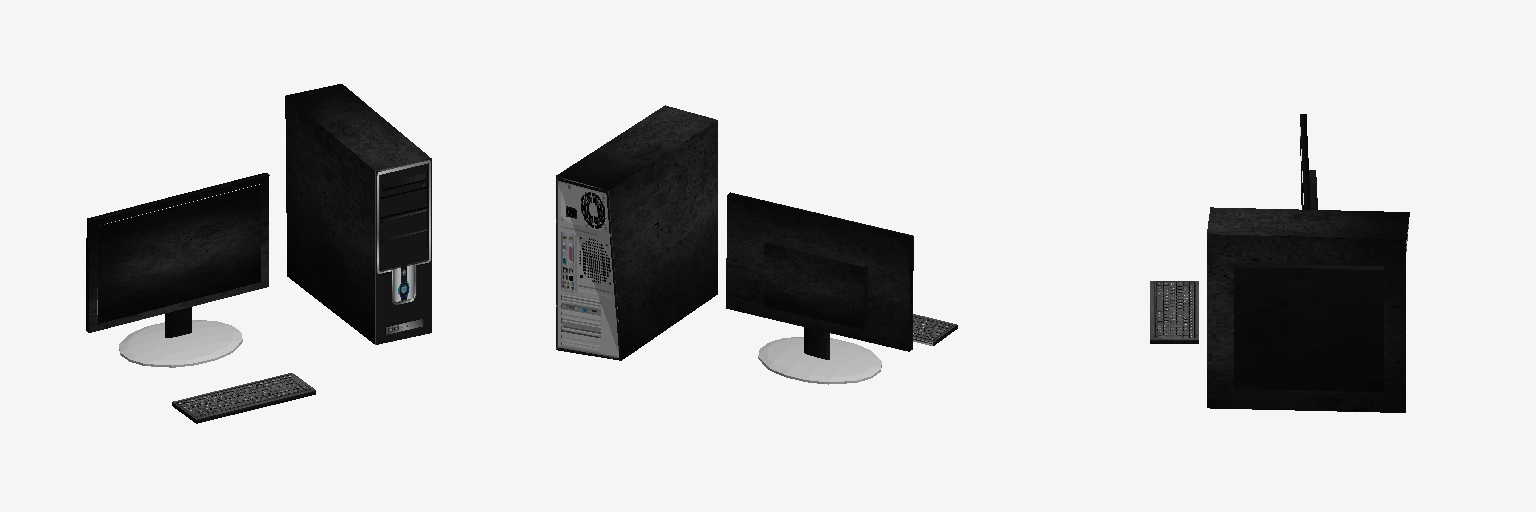
3 views of the same model, side by side, from view 1: azimuth 30°, elevation 25°; view 2: azimuth 150°, elevation 25°; view 3: azimuth 270°, elevation 25° (orthographic).
Parts seen in each view (by area): view 1: Cube.004, Cube.002, Cube, Mball, Cube.003, Cylinder; view 2: Cube.004, Cube, Cube.001, Mball, Cube.003, Cylinder; view 3: Cube.004, Cube.005, Cube.003, Cube.
Boxes of the visible parts, x1,y1,x2,y2 form: Cube.004: [285, 84, 431, 344]; Cube.002: [97, 184, 261, 323]; Cube: [86, 173, 269, 332]; Mball: [119, 320, 242, 367]; Cube.003: [172, 373, 315, 423]; Cylinder: [165, 307, 191, 337]; Cube.004: [556, 105, 717, 360]; Cube: [726, 192, 913, 351]; Cube.001: [764, 241, 867, 329]; Mball: [758, 337, 881, 384]; Cube.003: [913, 314, 957, 345]; Cylinder: [804, 327, 829, 359]; Cube.004: [1207, 207, 1409, 412]; Cube.005: [1234, 263, 1383, 391]; Cube.003: [1150, 281, 1198, 343]; Cube: [1300, 114, 1310, 209].
Size of the model in its own units: 5.55 by 3.05 by 4.
Materials: 8 (1 with a texture image).